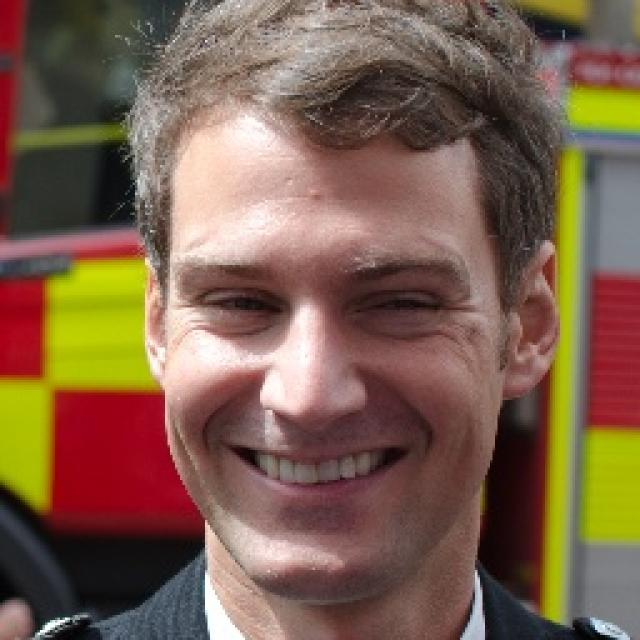earlobe: (502, 361, 544, 401), (154, 372, 165, 391)
eye: (201, 292, 278, 316), (364, 294, 436, 316)
nose: (260, 409, 363, 444)
wholeear: (501, 240, 562, 402), (142, 254, 172, 392)
